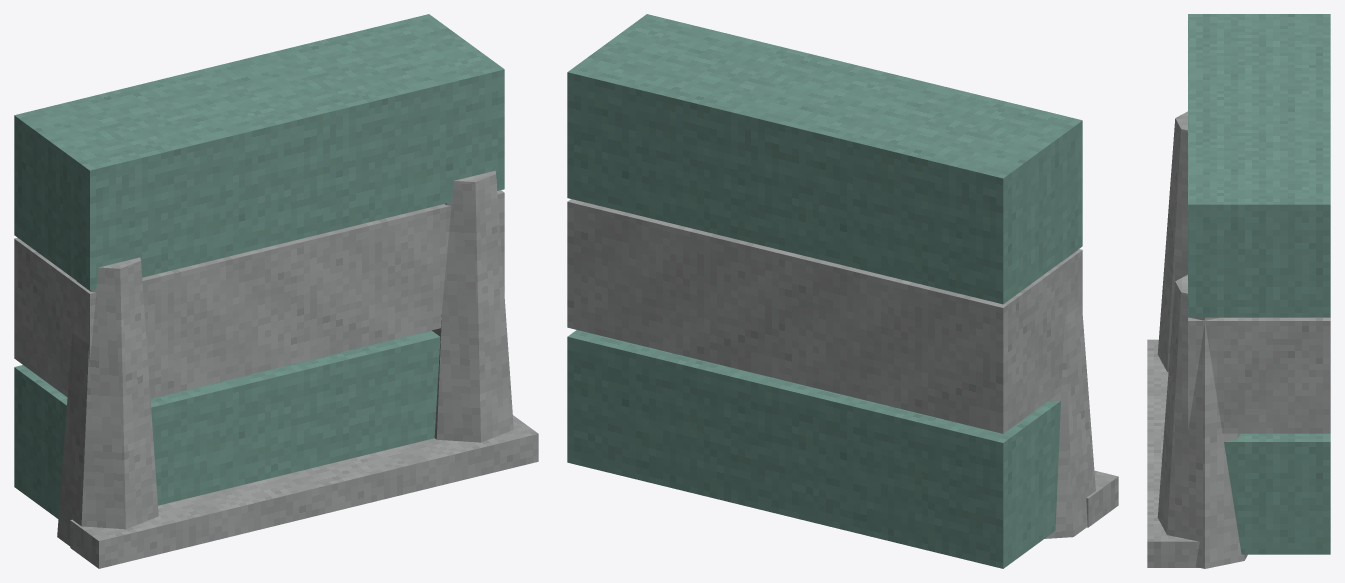
The model's file is level_blockout_cave_layered_sandstone.glb.
3 renders of one model, left to right at view 1: azimuth 30°, elevation 25°; view 2: azimuth 150°, elevation 25°; view 3: azimuth 270°, elevation 25°, orthographic. The views are drawn at different scales.
Visible parts, largest first — view 1: level_blockout_cave_layered_sandstone; view 2: level_blockout_cave_layered_sandstone; view 3: level_blockout_cave_layered_sandstone.
Part boxes in pixels (x1,y1,x2,y2): level_blockout_cave_layered_sandstone: (14, 14, 538, 568); level_blockout_cave_layered_sandstone: (567, 14, 1118, 568); level_blockout_cave_layered_sandstone: (1147, 14, 1330, 568).
Bounding box in the file's own units: 2.68 × 2.18 × 1.02.
Materials: 2 (2 with a texture image).
